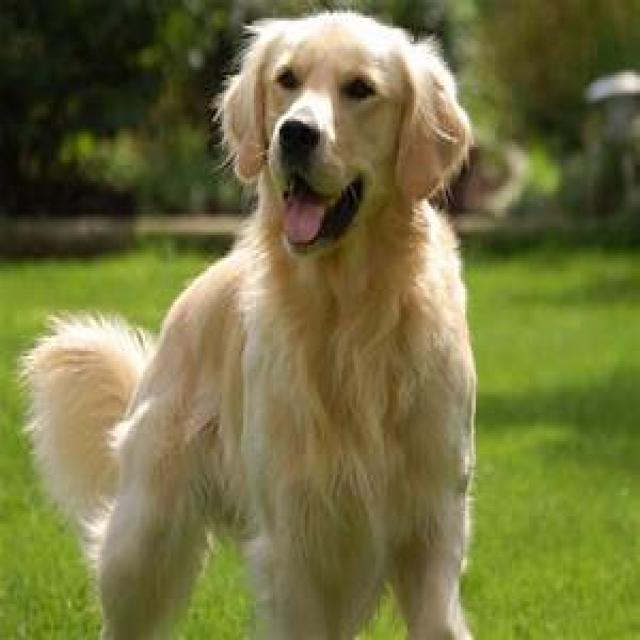dog: (24, 14, 475, 638)
